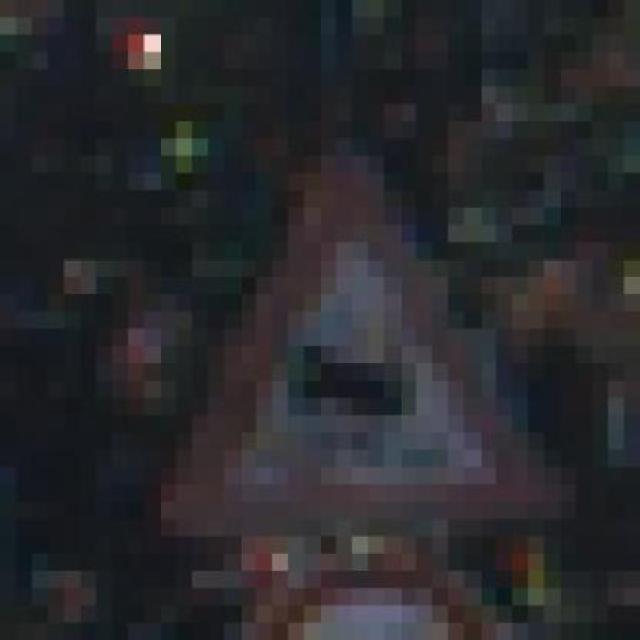Slippery Road Ahead: (129, 156, 576, 553)
